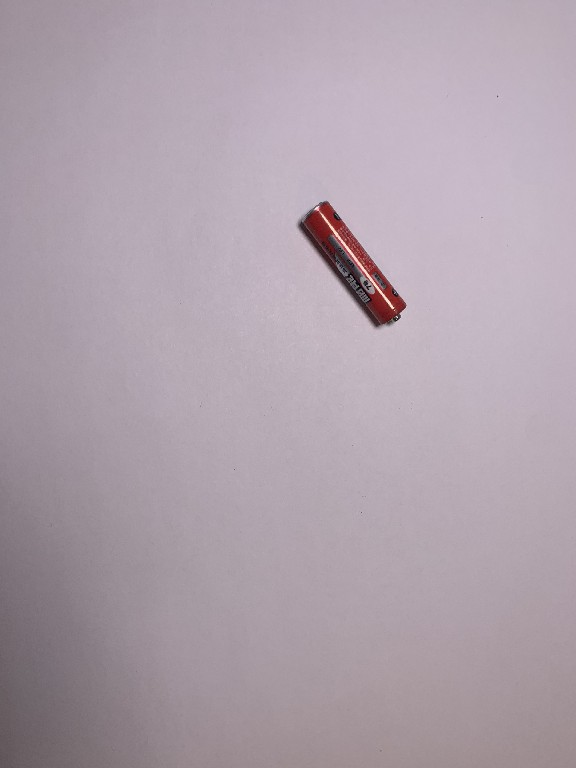charge: (294, 191, 415, 335)
